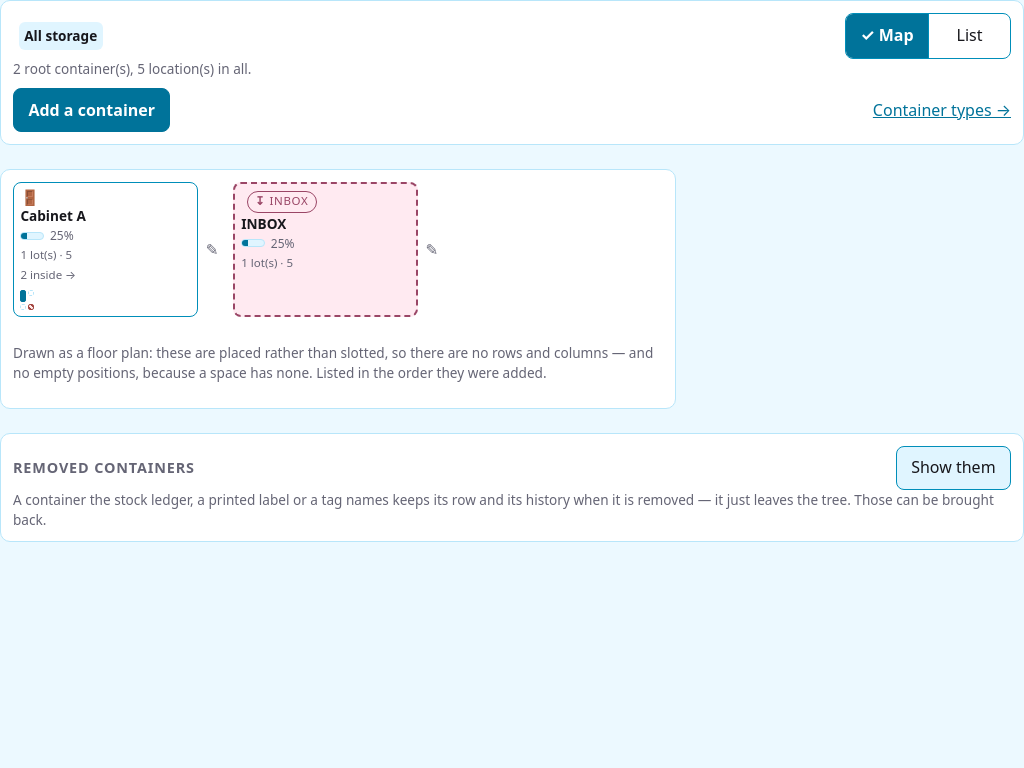
the list view › is still reachable, and keeps the path filter
Step 1. Click the button "List" → coordinates (969, 36), box [928, 14, 1010, 58]
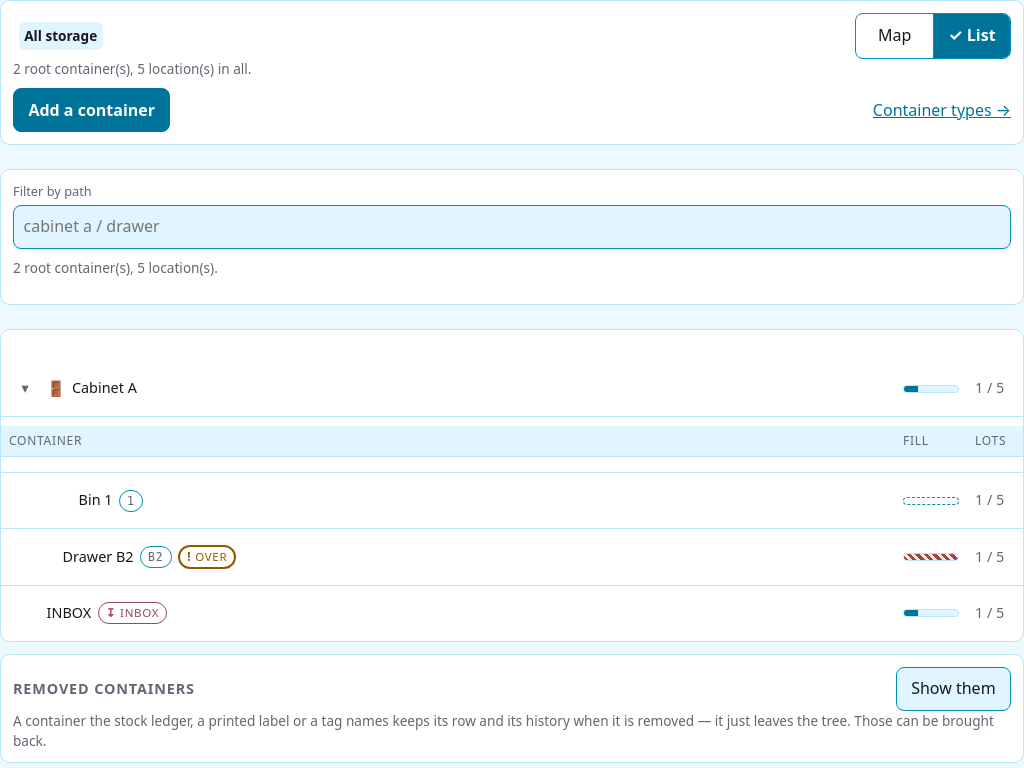
Expected: the field labelled "Filter by path" is shown, [13, 205, 1011, 249]
Expected: the table named "Storage tree" is shown, [0, 329, 1023, 642]
